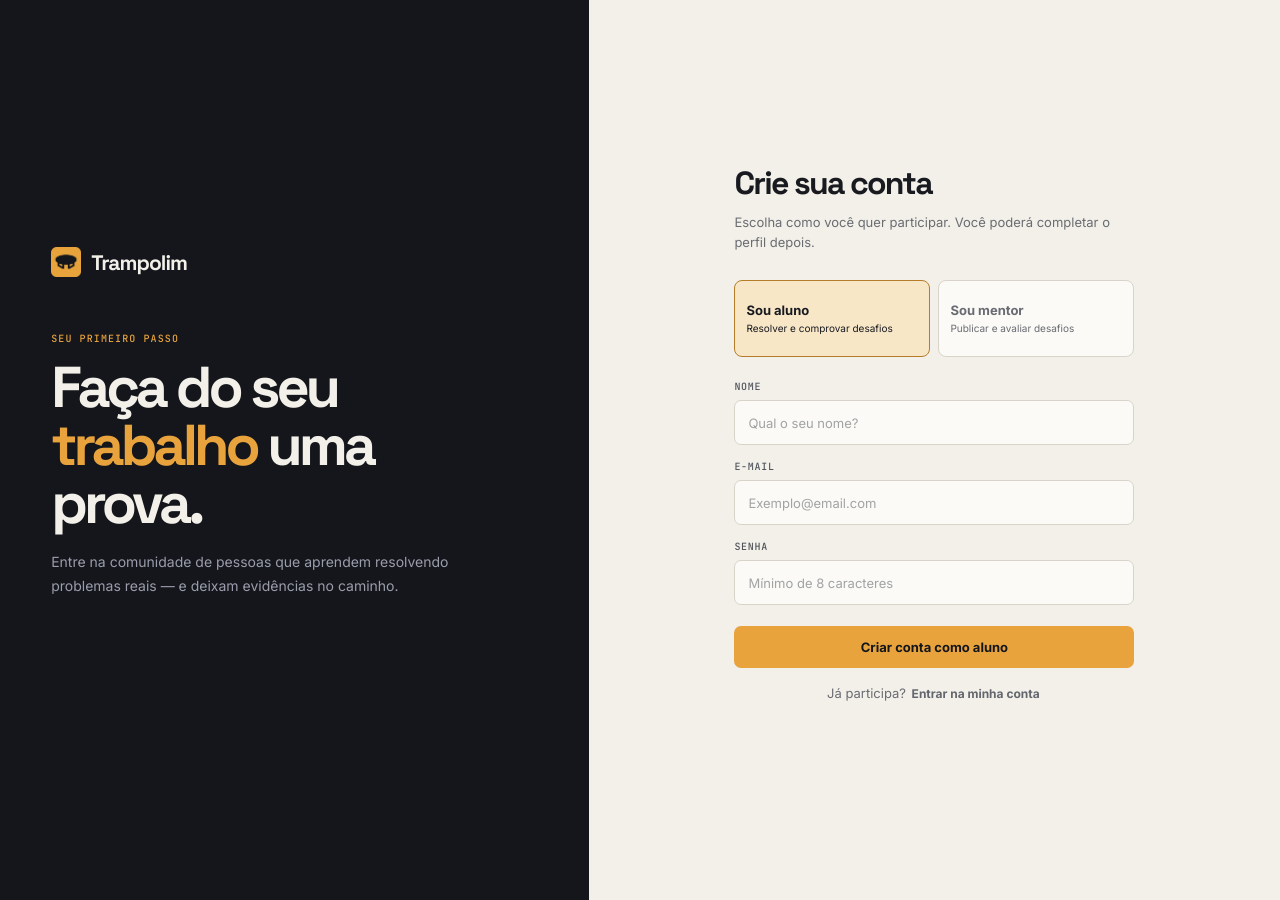
Test: Cadastro › cria a conta como mentor, entra automaticamente e abre o perfil
Click the button "Sou mentor Publicar e avaliar desafios" at [1036, 319], box [938,280,1134,357]
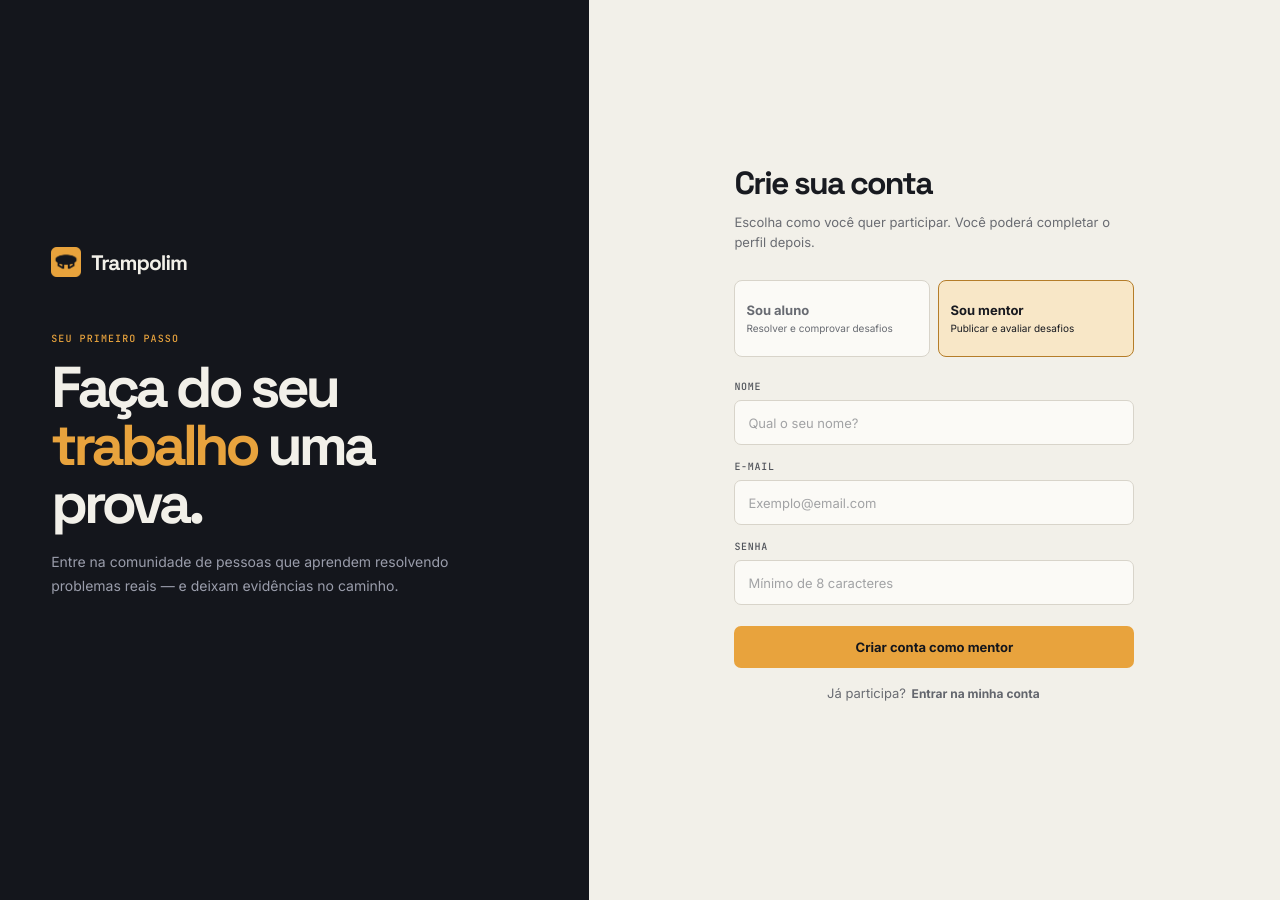
Type "Rafael" into the field labelled "Nome" at [934, 423], box [734,400,1134,445]
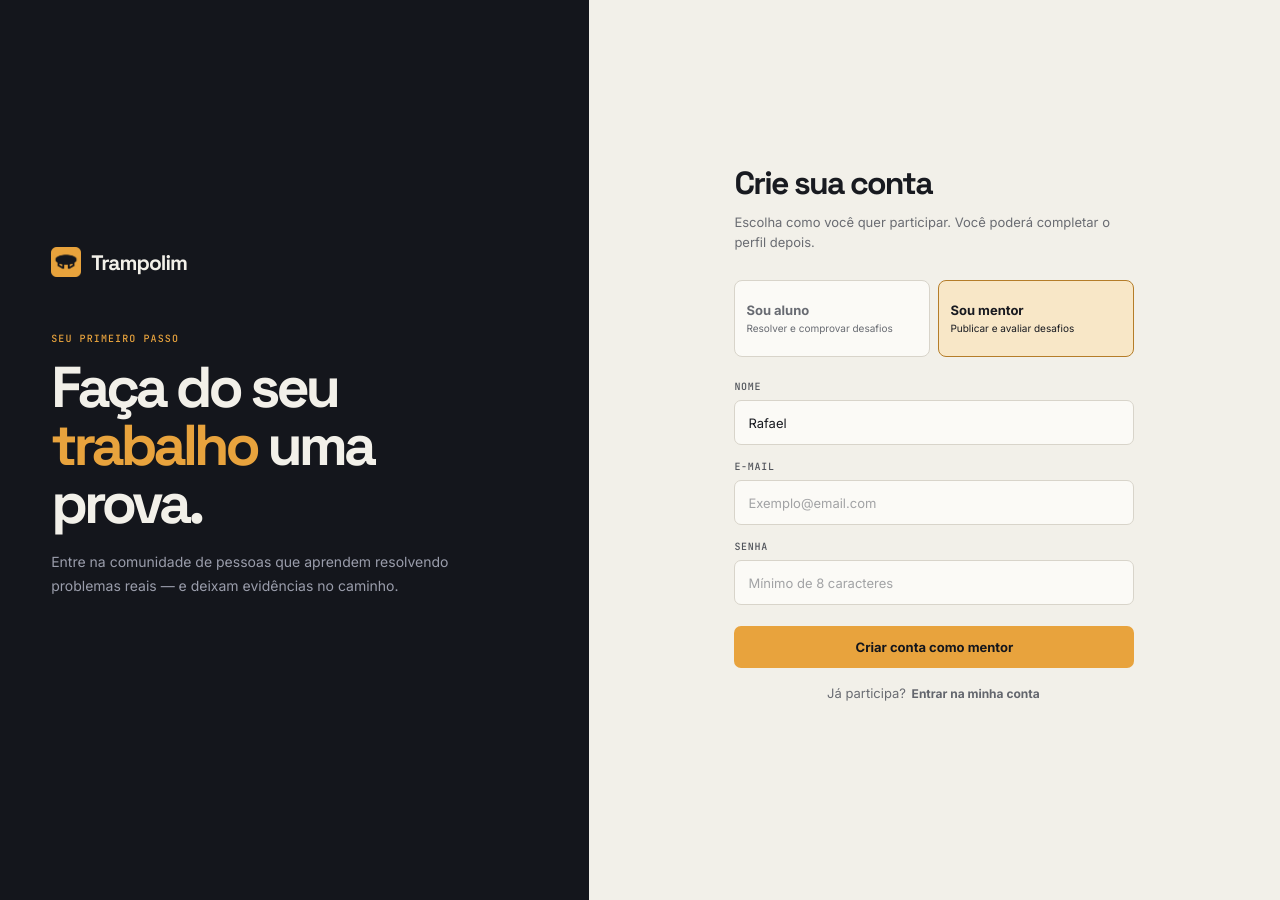
Type "rafael@trampolim.dev" into the field labelled "E-mail" at [934, 503], box [734,480,1134,525]
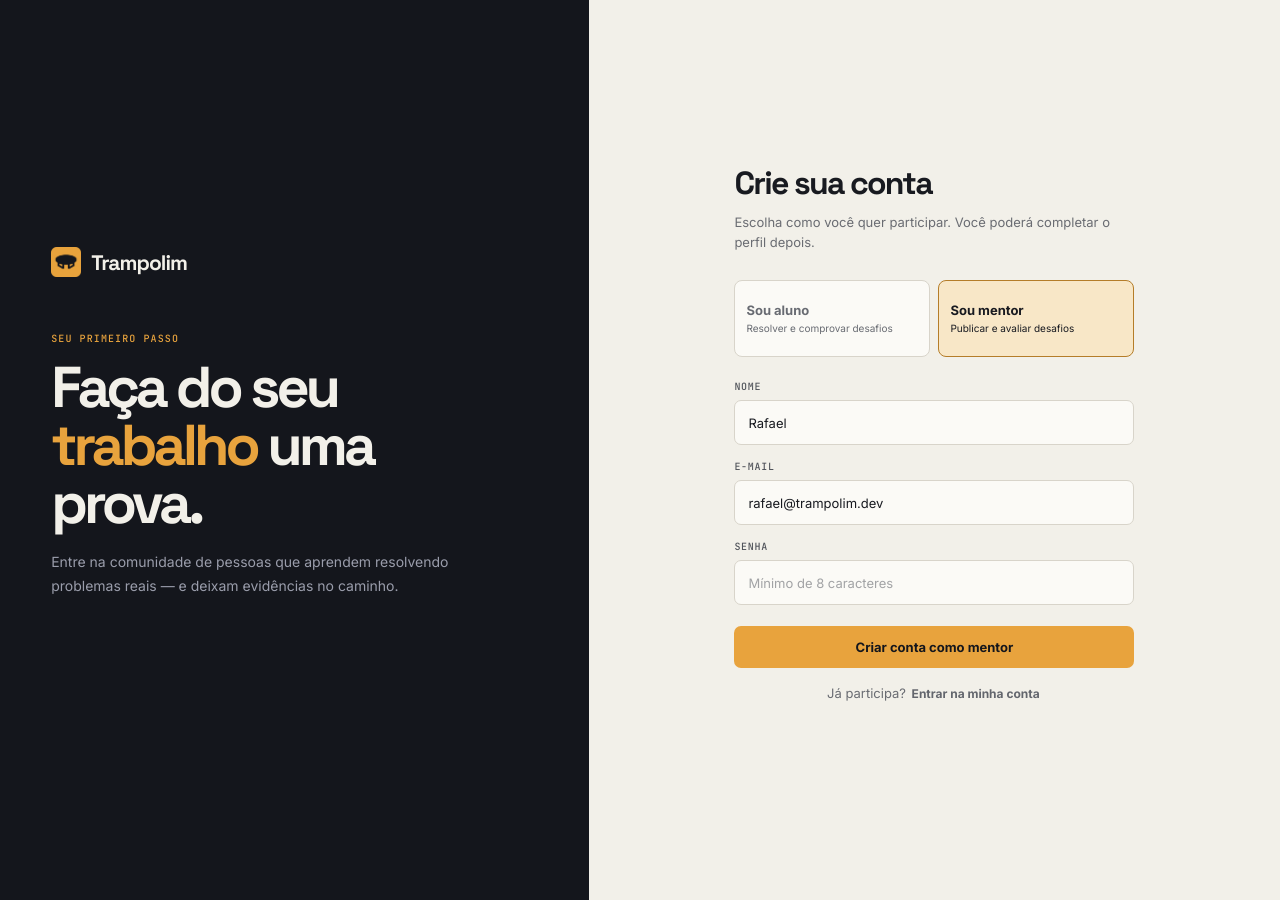
Type "senha-forte-123" into the password field labelled "Senha" at [934, 583], box [734,560,1134,605]
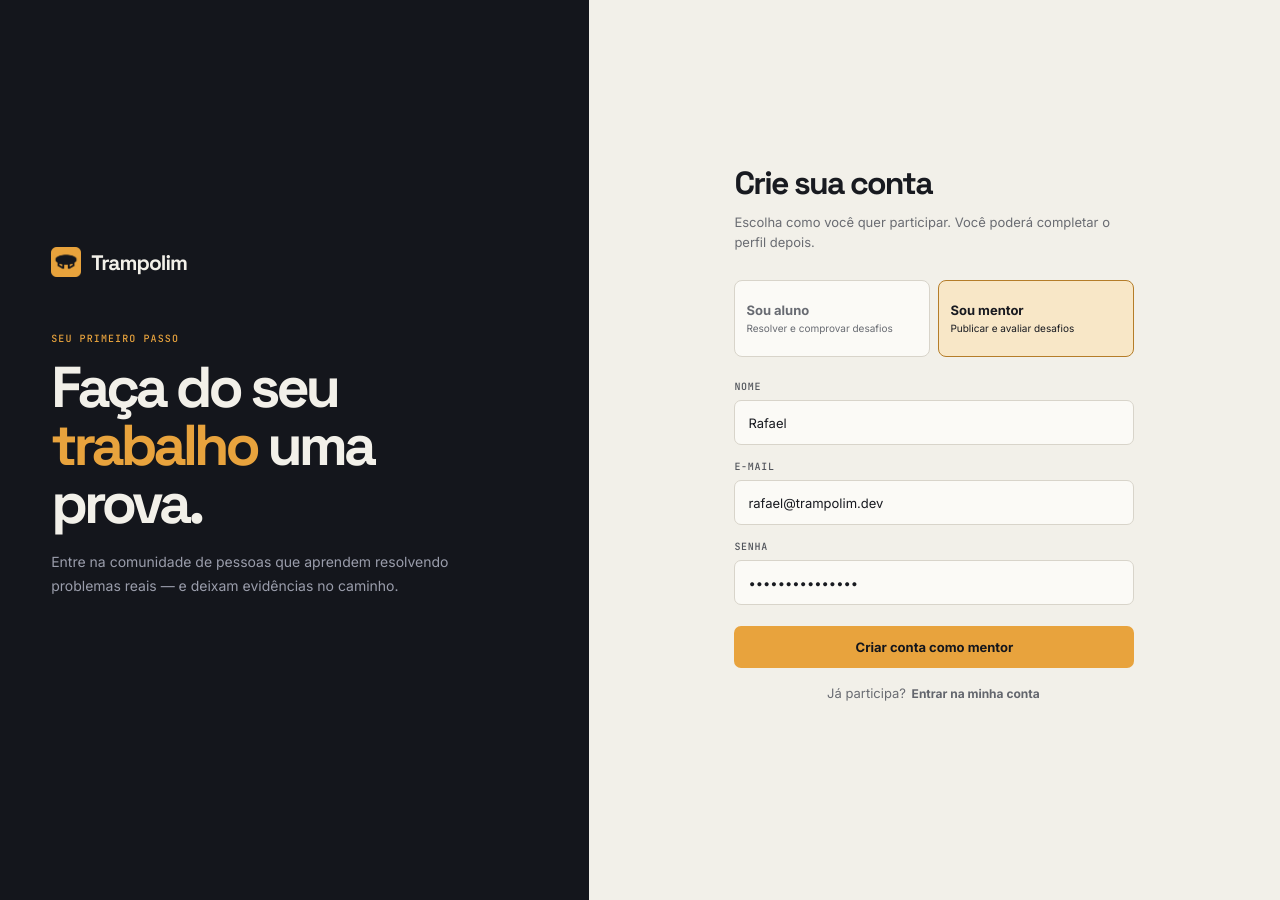
Click the button "Criar conta como mentor" at [934, 647], box [734,626,1134,668]
(page scrolled)
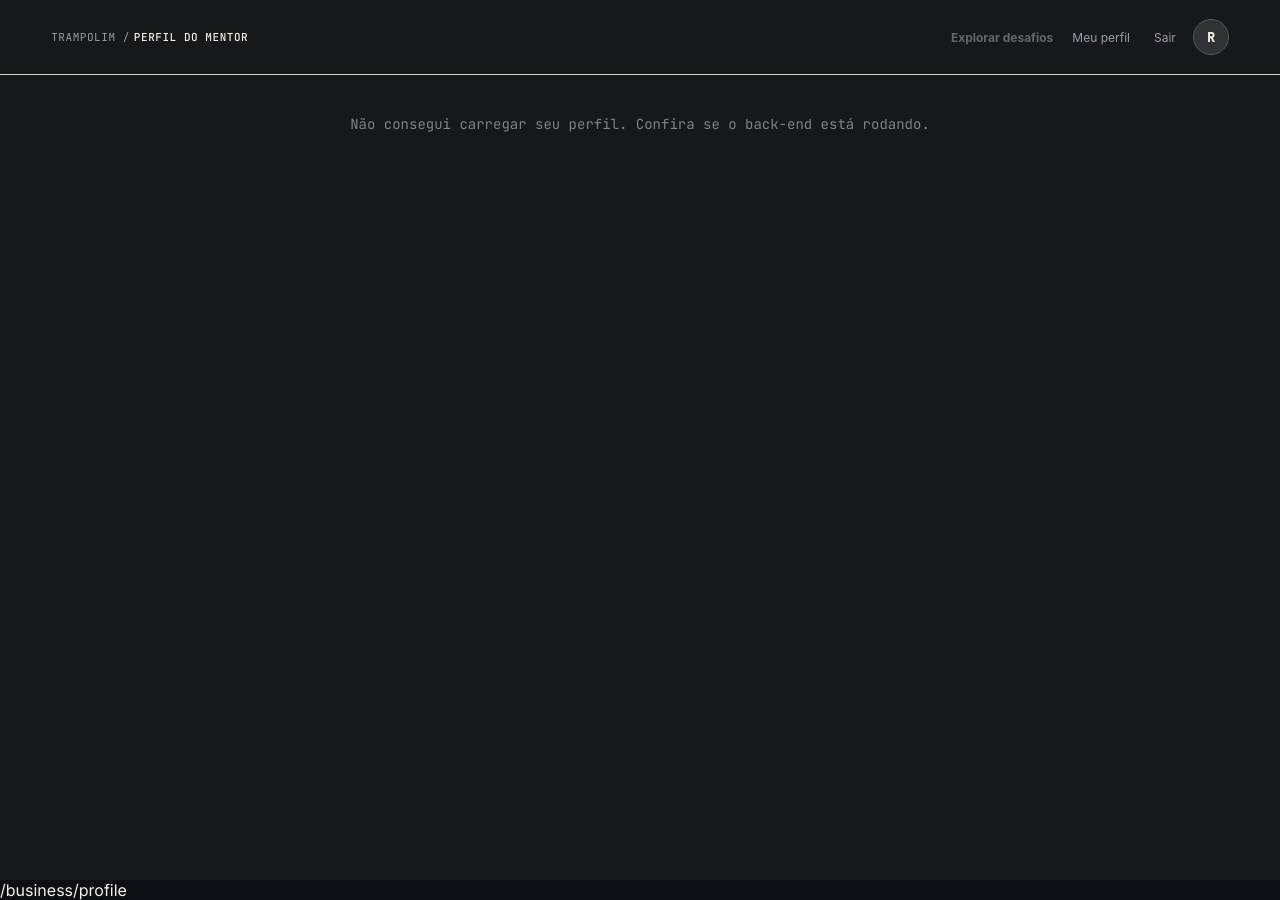
Result: the text with test id "rota" reads "/business/profile" at [0,880,127,899]
